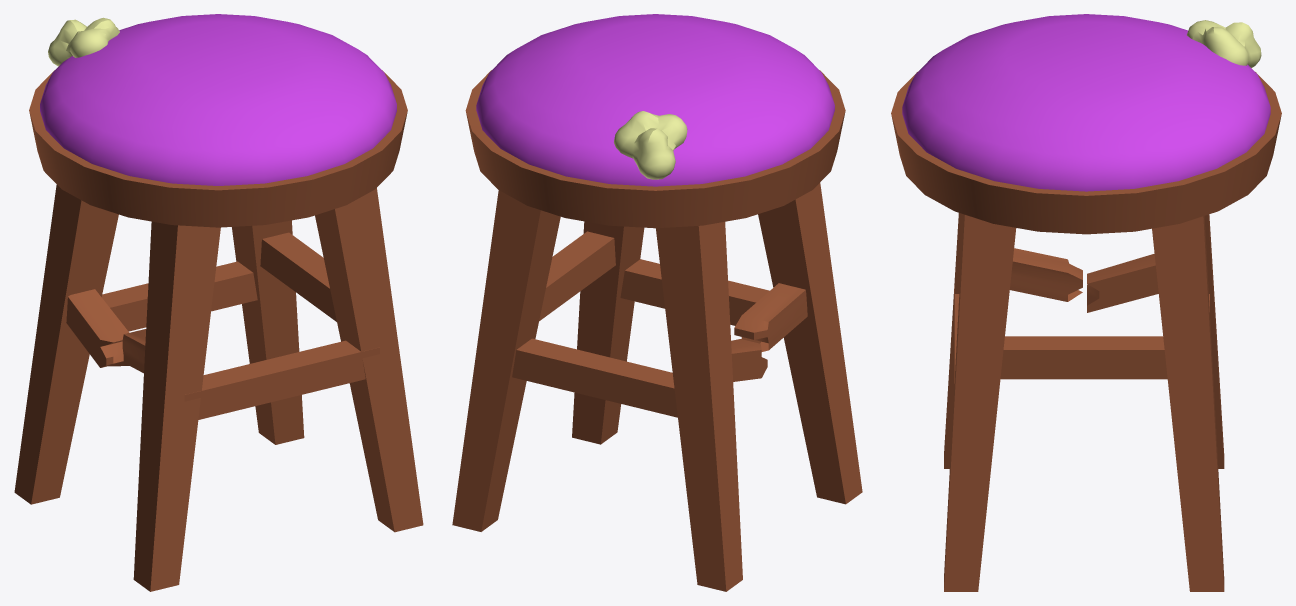
Rendered from stoolWrecked1.fbx.
3 renders of one model, left to right at view 1: azimuth 30°, elevation 25°; view 2: azimuth 150°, elevation 25°; view 3: azimuth 270°, elevation 25°, orthographic. The views are drawn at different scales.
Parts seen in each view (by area): view 1: Stool Wrecked 1; view 2: Stool Wrecked 1; view 3: Stool Wrecked 1.
Part boxes in pixels (bbox=[...]): Stool Wrecked 1: bbox=[14, 14, 423, 591]; Stool Wrecked 1: bbox=[452, 14, 862, 591]; Stool Wrecked 1: bbox=[891, 14, 1281, 591].
Size of the model in its own units: 38.39 by 38.39 by 50.83.
